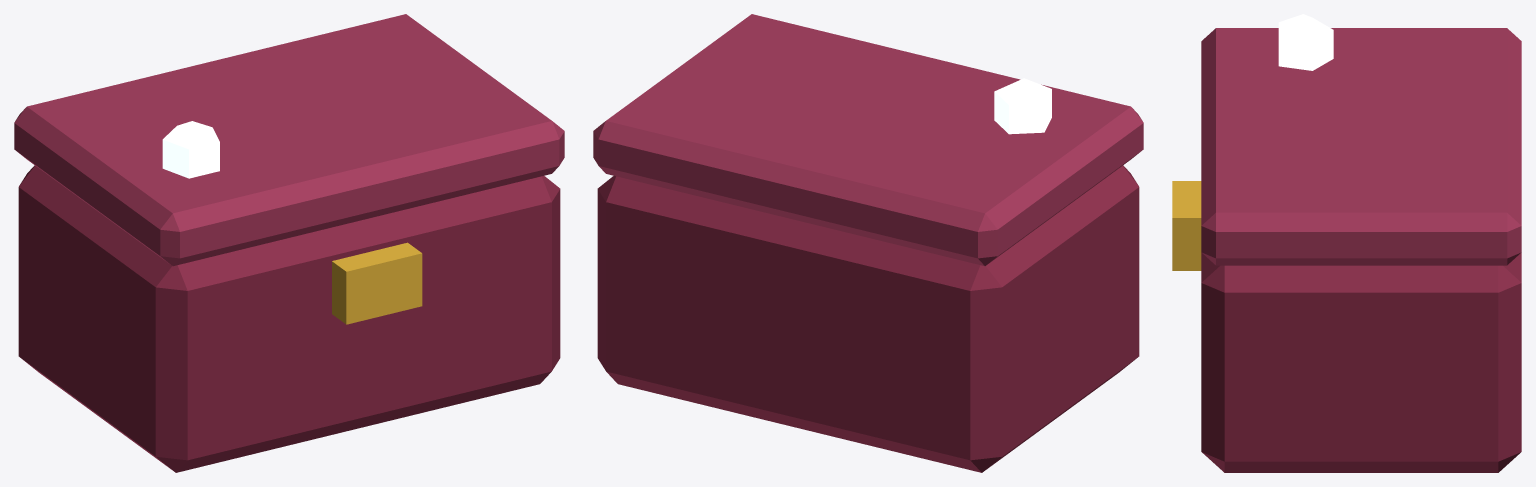
Rendered from jewelBox.fbx.
3 views of the same model, side by side, from view 1: azimuth 30°, elevation 25°; view 2: azimuth 150°, elevation 25°; view 3: azimuth 270°, elevation 25° (orthographic).
Visible parts, largest first — view 1: jewelBox; view 2: jewelBox; view 3: jewelBox.
Boxes of the visible parts, x1,y1,x2,y2 form: jewelBox: (14,14,564,472); jewelBox: (593,14,1143,472); jewelBox: (1172,14,1521,472).
Size of the model in its own units: 0.64 by 0.468 by 0.48.
